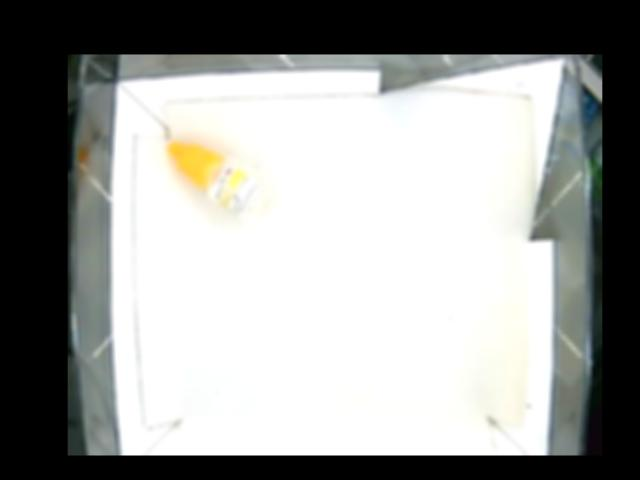Bottle: (165, 139, 271, 224)
